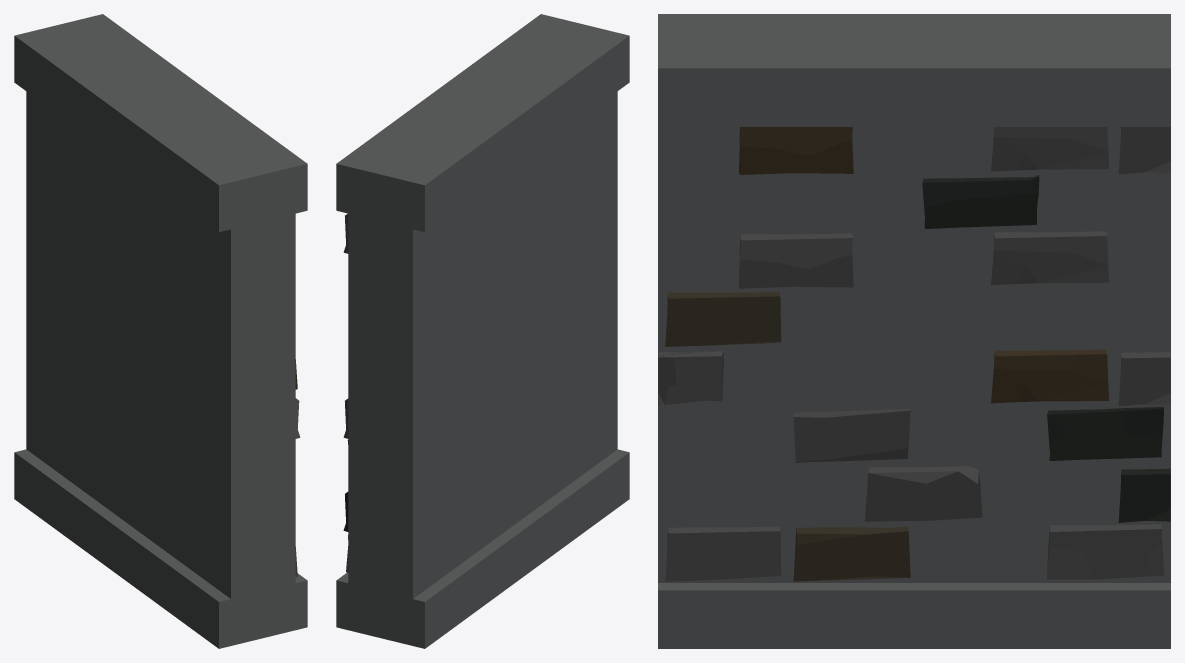
The model's file is Wall5.fbx.
3 views of the same model, side by side, from view 1: azimuth 30°, elevation 25°; view 2: azimuth 150°, elevation 25°; view 3: azimuth 270°, elevation 25° (orthographic). The views are drawn at different scales.
Parts seen in each view (by area): view 1: Wall6; view 2: Wall6; view 3: Wall6.
Part boxes in pixels (box(x1,y1,x2,y2)): Wall6: box(14, 14, 307, 648); Wall6: box(336, 14, 629, 648); Wall6: box(658, 14, 1170, 648).
Bounding box in the file's own units: 100 × 500 × 400.
